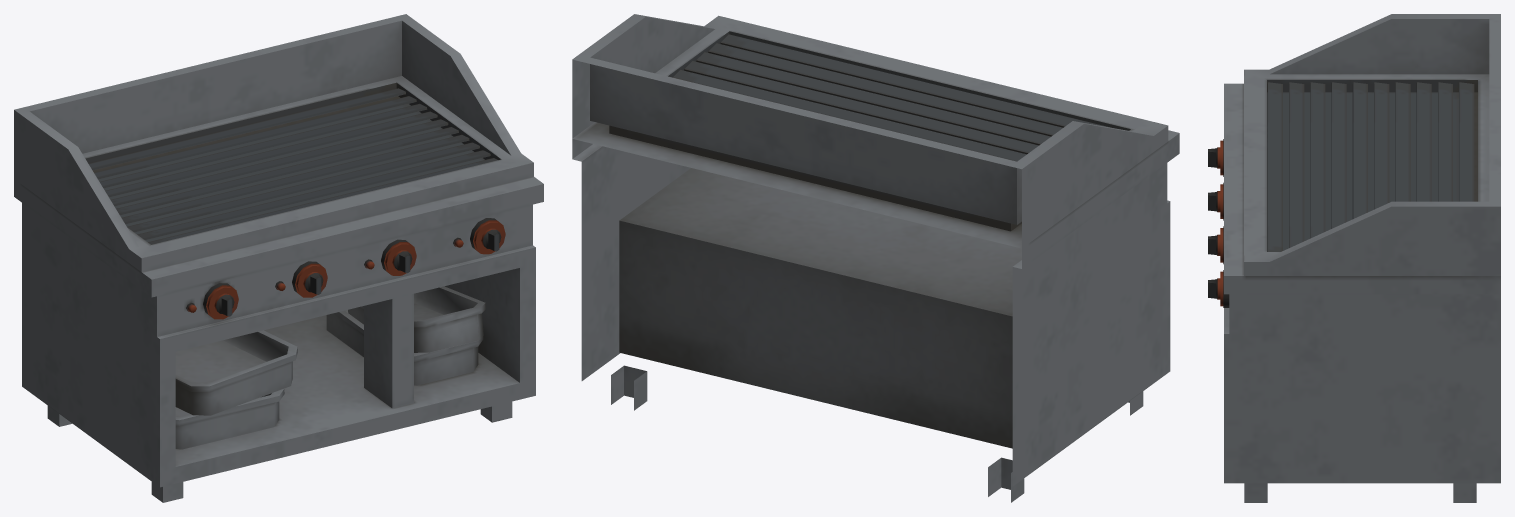
File: Grill.fbx
The picture shows the model from 3 angles, left to right: view 1: azimuth 30°, elevation 25°; view 2: azimuth 150°, elevation 25°; view 3: azimuth 270°, elevation 25°; orthographic projection. The views are drawn at different scales.
Parts seen in each view (by area): view 1: Grill; view 2: Grill; view 3: Grill.
Part boxes in pixels (x1=…): Grill: x1=14, y1=14, x2=543, y2=502; Grill: x1=572, y1=14, x2=1179, y2=502; Grill: x1=1208, y1=14, x2=1500, y2=502.
Size of the model in its own units: 1.57 by 1.16 by 1.01.
1 material, 1 textured.
